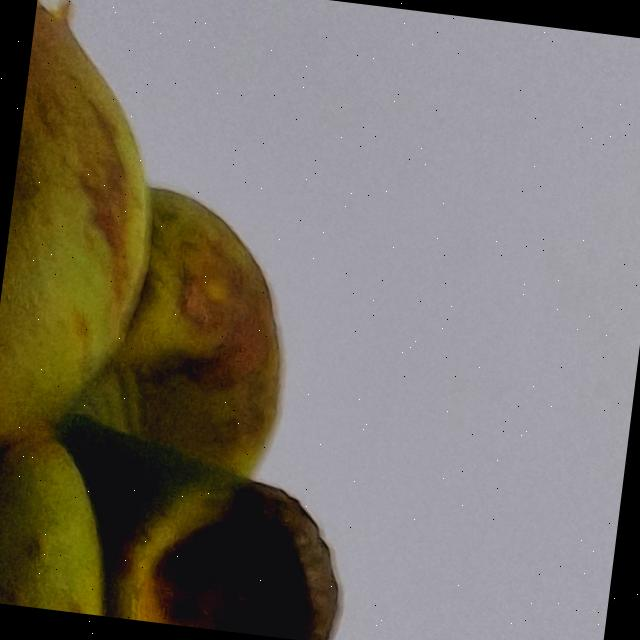mangosteen: (0, 0, 453, 640)
